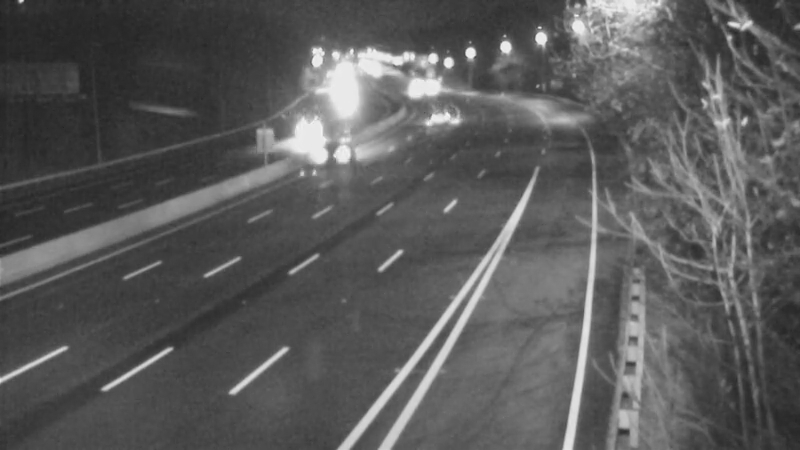vehicle: (274, 116, 354, 196), (411, 94, 461, 144), (299, 105, 349, 155)
